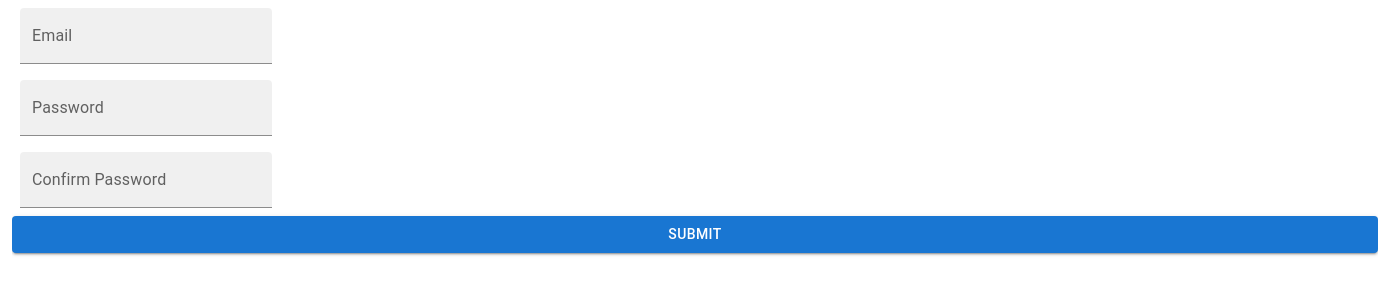
it: Sign up form tests › Sign up form error handles tests › should show error if submitted with no email and no password
The width and height of the screenshot is (1390, 290).
Click the button "Submit" at (695, 234), box [12,216,1378,252]
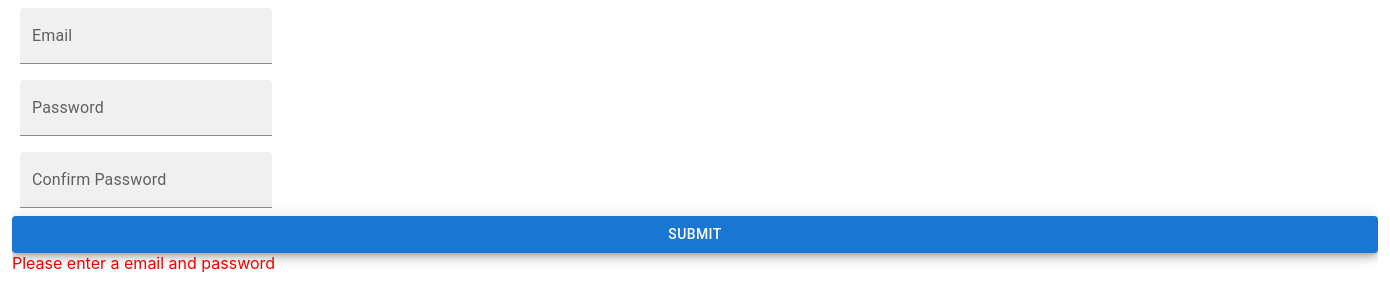
Check: the text "Please enter a email and password" is shown, box [12,252,275,272]
